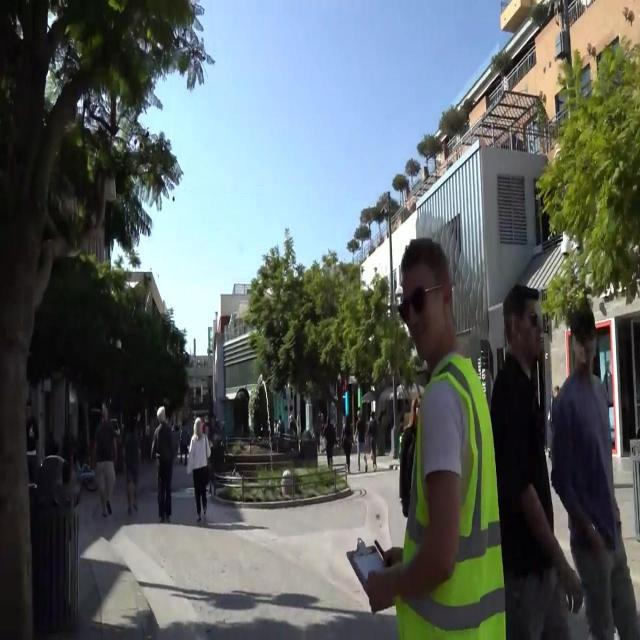reflective_jacket: (388, 348, 512, 639)
